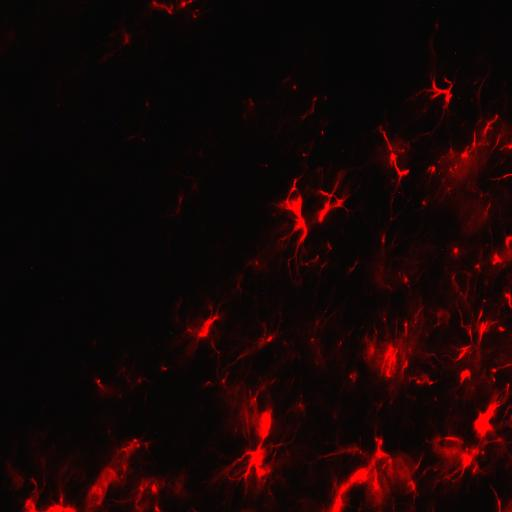microglia: (249, 168, 354, 284), (210, 369, 306, 494), (8, 436, 152, 512), (428, 384, 512, 512), (422, 116, 512, 234), (317, 425, 425, 512), (362, 302, 438, 403), (444, 306, 512, 402), (372, 233, 434, 293), (174, 298, 229, 363), (228, 311, 284, 370), (378, 126, 412, 222), (96, 359, 168, 401), (117, 472, 190, 512), (413, 67, 461, 121), (483, 232, 512, 279), (123, 98, 153, 143), (100, 28, 134, 66), (148, 0, 204, 21), (448, 272, 474, 315), (162, 184, 188, 218)
